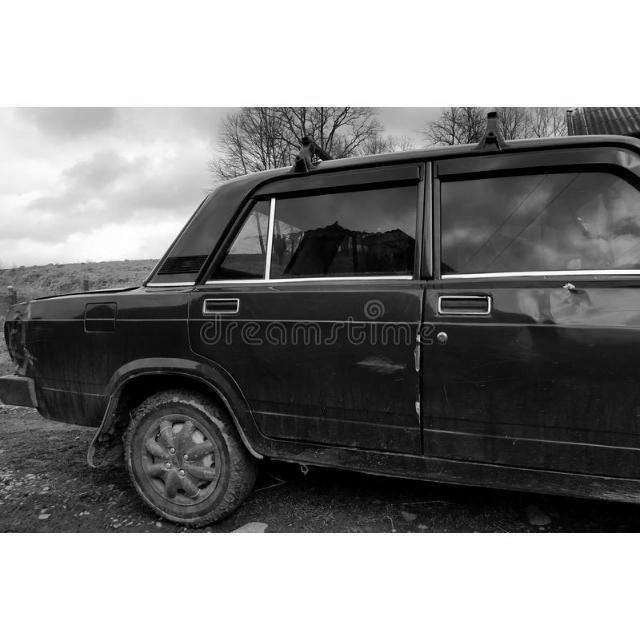doorouter-dent: (200, 283, 420, 451), (427, 282, 639, 456)
